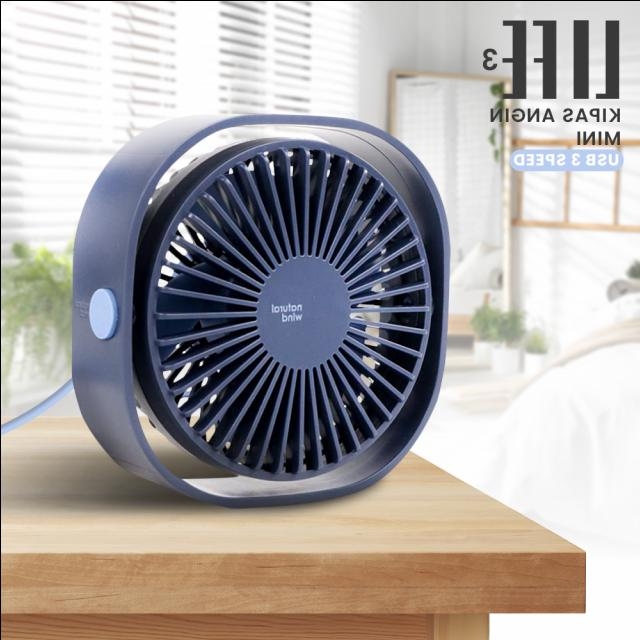fan: (67, 105, 460, 513)
